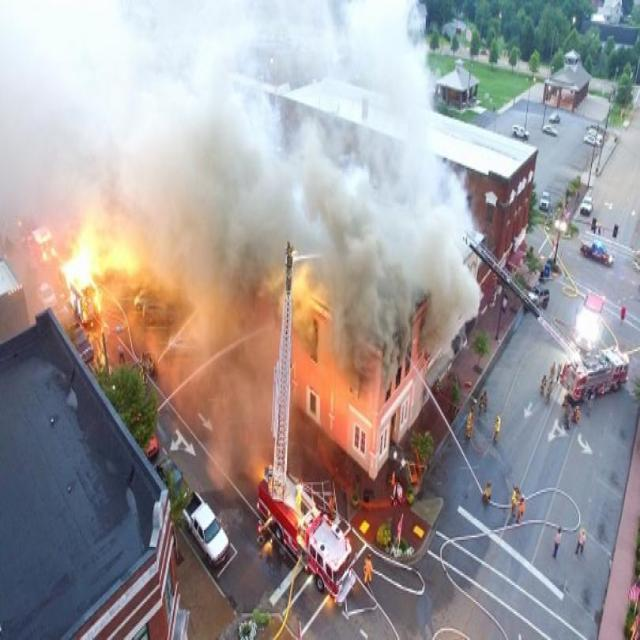Fire: (74, 209, 137, 306)
